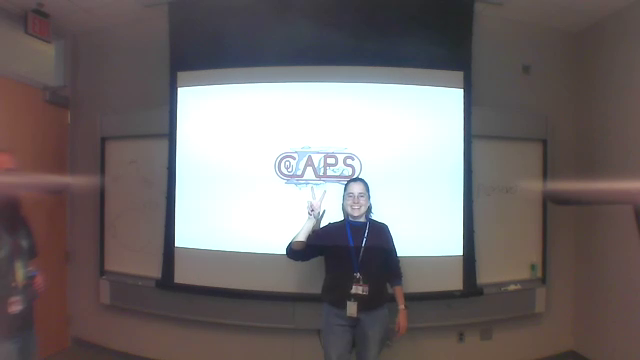peace: (302, 184, 330, 222)
